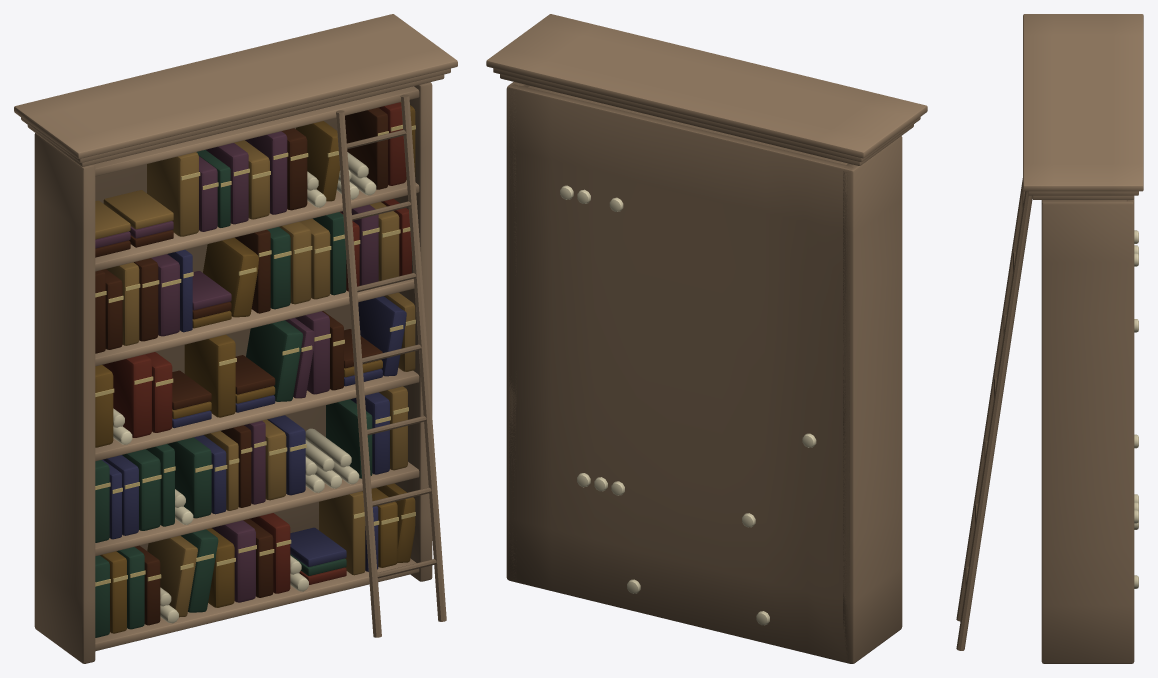
The model's file is obj_kit_bookwall.glb.
3 views of the same model, side by side, from view 1: azimuth 30°, elevation 25°; view 2: azimuth 150°, elevation 25°; view 3: azimuth 270°, elevation 25° (orthographic). The views are drawn at different scales.
Visible parts, largest first — view 1: Cube.001, Cube.011, Cube.002, rail, rail.001, Cube, Cube.005, Cube.007, Cube.004, Cube.003, Cube.006, Cube.008 (+72 smaller); view 2: Cube, Cube.001, Cube.011, Cube.002, Cube.010, Cube.009, Cube.008; view 3: Cube.002, Cube.011, rail.001, rail, Cube.010, Cube.009.
Boxes of the visible parts, x1,y1,x2,y2 form: Cube.001: (34,133,95,663); Cube.011: (14,14,457,158); Cube.002: (394,82,432,581); rail: (336,110,381,637); rail.001: (400,94,446,621); Cube: (95,118,351,550); Cube.005: (95,368,419,461); Cube.007: (95,180,419,271); Cube.004: (95,462,419,556); Cube.003: (95,558,419,651); Cube.006: (95,279,414,366); Cube.008: (94,86,419,176); Cube: (509,84,853,663); Cube.001: (843,136,902,663); Cube.011: (486,14,927,158); Cube.002: (506,82,529,580); Cube.010: (493,68,920,162); Cube.009: (500,74,913,165); Cube.008: (528,86,848,164); Cube.002: (1041,200,1134,663); Cube.011: (1023,14,1143,191); rail.001: (956,191,1032,650); rail: (956,178,1022,621); Cube.010: (1027,191,1138,195); Cube.009: (1032,195,1134,199).
Size of the model in its own units: 1.76 by 2.32 by 0.8078.
